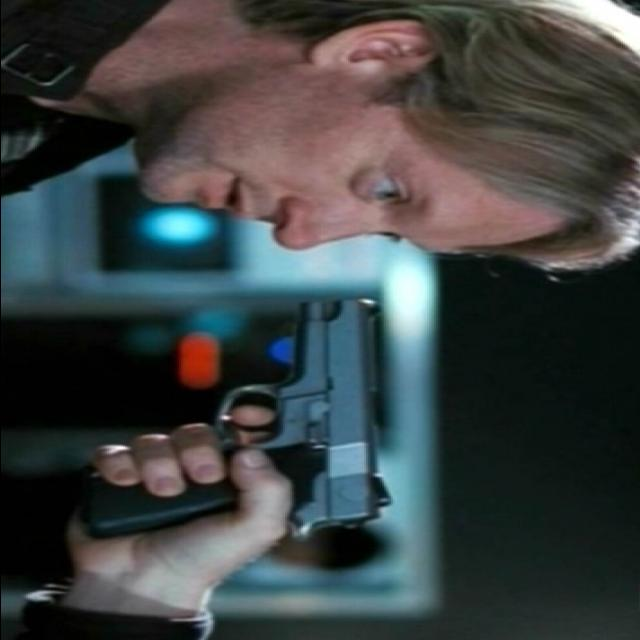weapons: (54, 287, 402, 557)
